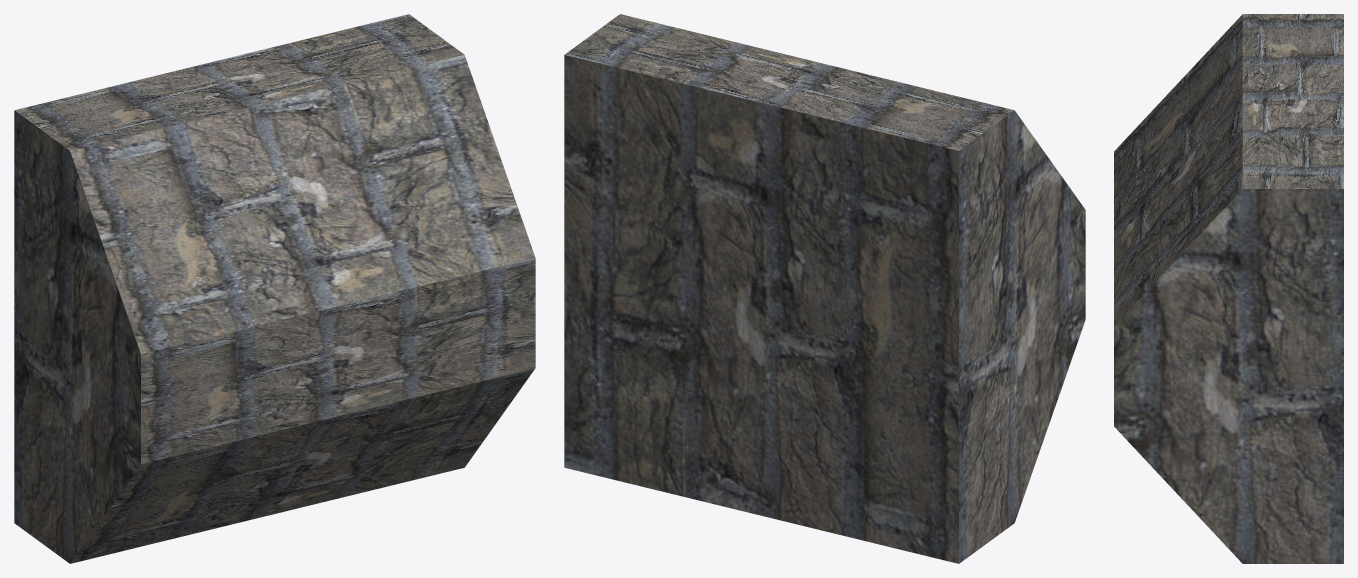
Rendered from roof_brick.glb.
The picture shows the model from 3 angles, left to right: view 1: azimuth 30°, elevation 25°; view 2: azimuth 150°, elevation 25°; view 3: azimuth 270°, elevation 25°; orthographic projection. The views are drawn at different scales.
Visible parts, largest first — view 1: roof; view 2: roof; view 3: roof.
Part boxes in pixels (x1=…): roof: x1=14, y1=14, x2=535, y2=563; roof: x1=564, y1=14, x2=1085, y2=563; roof: x1=1114, y1=14, x2=1343, y2=563.
Size of the model in its own units: 0.9 by 0.9 by 0.5.
1 material, 1 textured.
